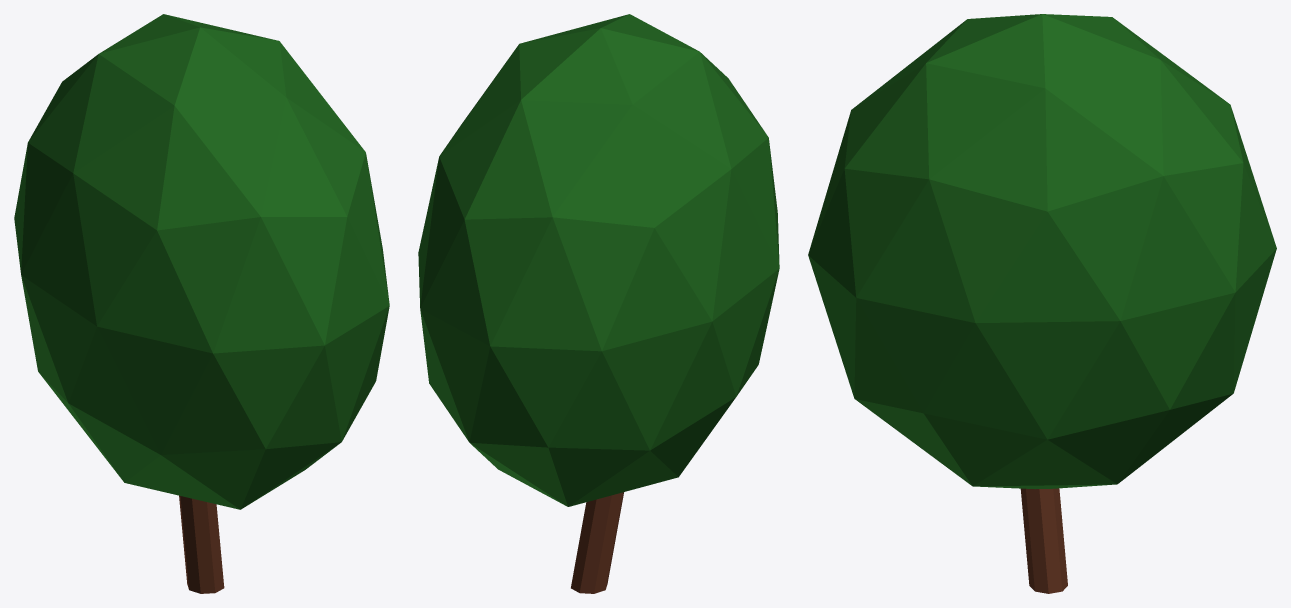
File: bush2.fbx
3 renders of one model, left to right at view 1: azimuth 30°, elevation 25°; view 2: azimuth 150°, elevation 25°; view 3: azimuth 270°, elevation 25°, orthographic.
Parts seen in each view (by area): view 1: Cylinder.004; view 2: Cylinder.004; view 3: Cylinder.004.
Boxes of the visible parts, x1,y1,x2,y2 form: Cylinder.004: (14, 14, 389, 593); Cylinder.004: (418, 14, 779, 593); Cylinder.004: (808, 14, 1276, 593).
Bounding box in the file's own units: 216 × 393 × 294.
